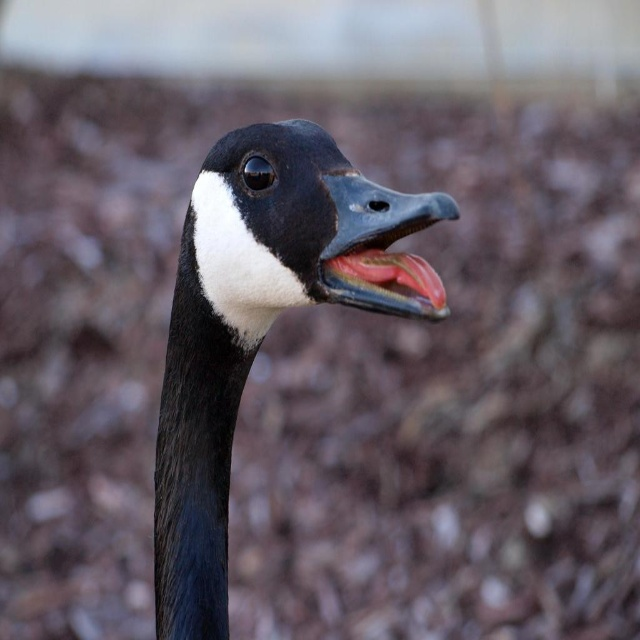Goose: (148, 118, 461, 640)
